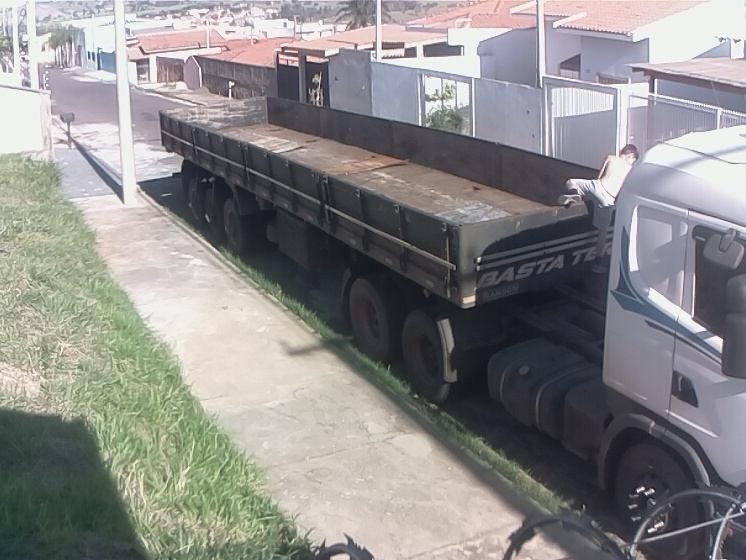person: (557, 143, 650, 276)
